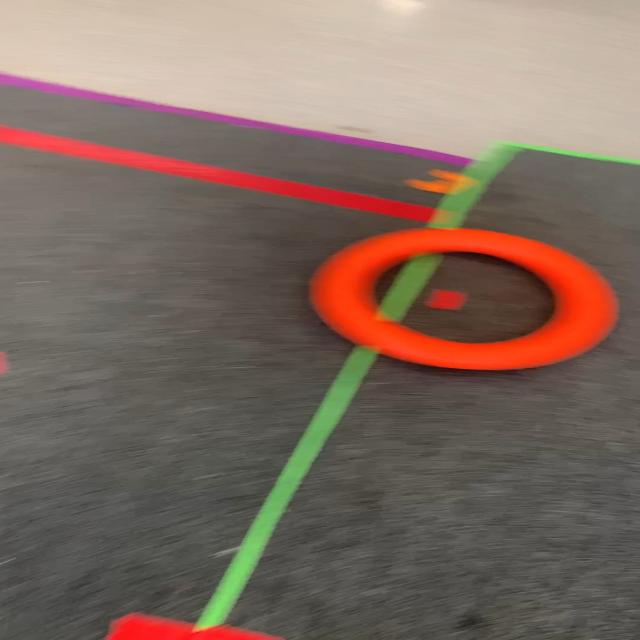notes: (314, 229, 620, 371)
